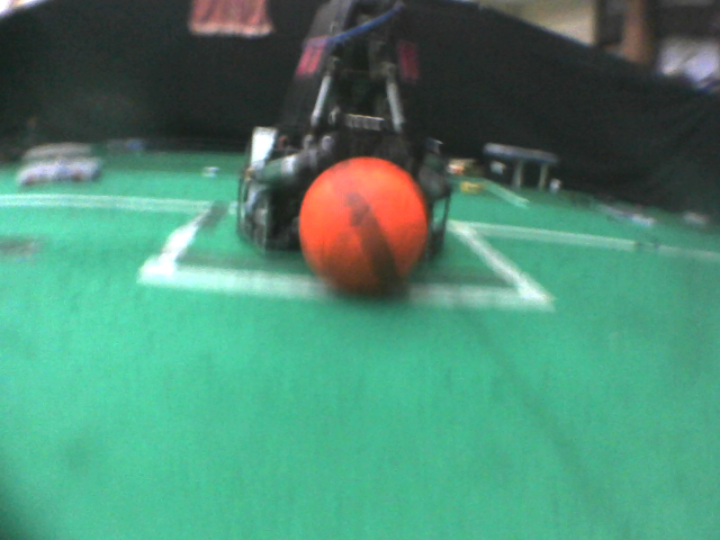bola: (300, 154, 436, 302)
